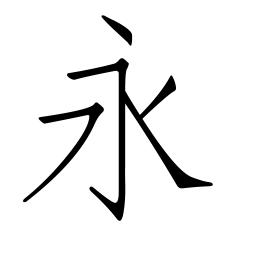D: (99, 12, 137, 47)
HSZ: (106, 55, 131, 85)
Hs: (65, 65, 99, 81)
Ne: (170, 164, 216, 192)
PNc: (128, 104, 153, 130)
PZe: (21, 177, 54, 205)
Ps: (157, 74, 179, 103)
SG: (86, 181, 130, 223)
Sm: (115, 132, 129, 166)
TPZ: (77, 101, 105, 138)
Ts: (36, 113, 67, 125)
